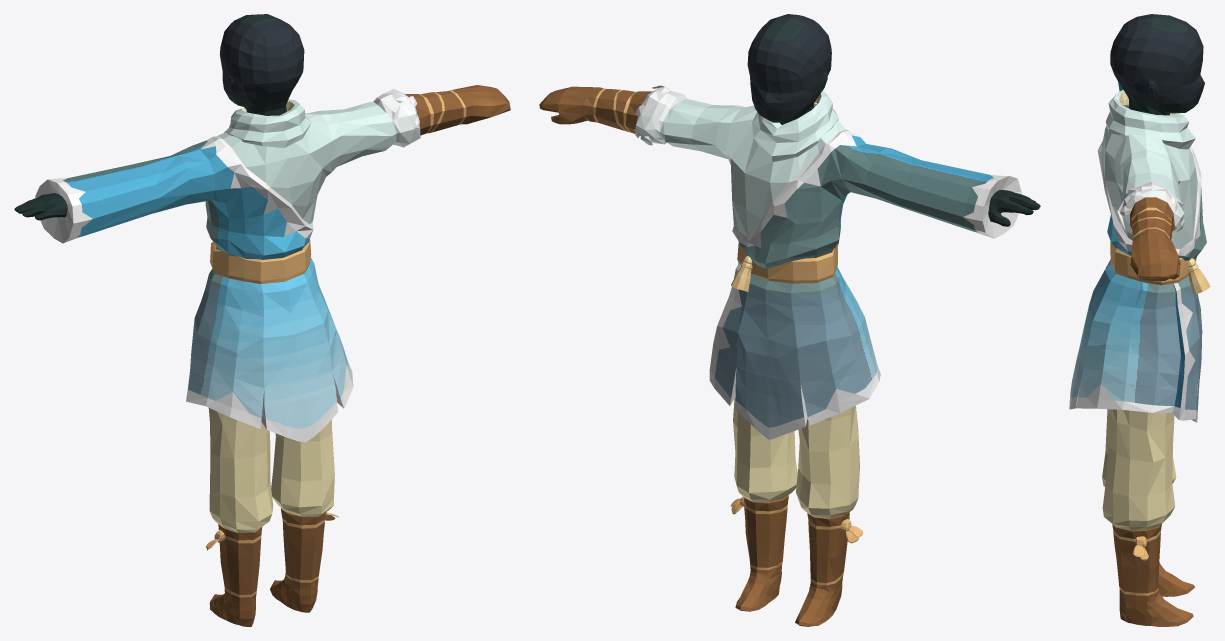
The model's file is CharSkyNPC_Body_AP12BlueTunic_01.glb.
3 renders of one model, left to right at view 1: azimuth 30°, elevation 25°; view 2: azimuth 150°, elevation 25°; view 3: azimuth 270°, elevation 25°, orthographic.
Parts seen in each view (by area): view 1: CharSkyNPC_Body_AP12BlueTunic_01; view 2: CharSkyNPC_Body_AP12BlueTunic_01; view 3: CharSkyNPC_Body_AP12BlueTunic_01.
Boxes of the visible parts, x1,y1,x2,y2 form: CharSkyNPC_Body_AP12BlueTunic_01: (14,14,510,626); CharSkyNPC_Body_AP12BlueTunic_01: (539,14,1040,626); CharSkyNPC_Body_AP12BlueTunic_01: (1069,14,1210,626).
Size of the model in its own units: 12.38 by 14.17 by 3.08.
Materials: 1 (1 with a texture image).
